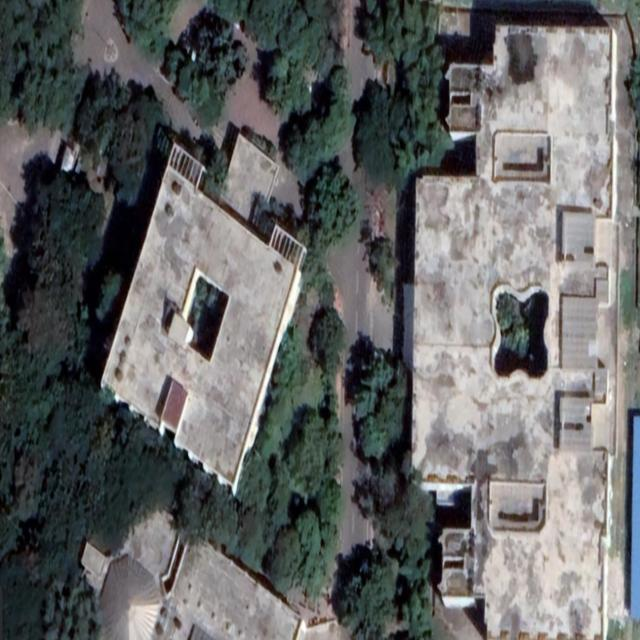Batiment: (406, 0, 640, 638), (102, 133, 305, 488), (82, 513, 321, 639)
